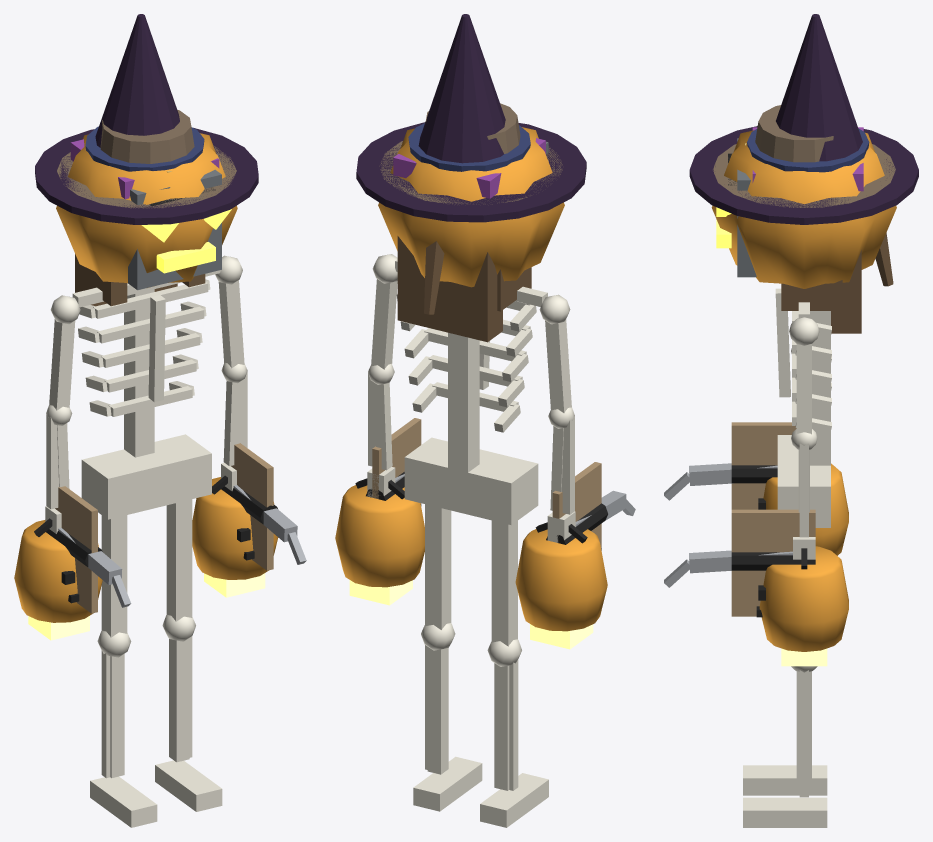
Rendered from skeleton.glb.
3 renders of one model, left to right at view 1: azimuth 30°, elevation 25°; view 2: azimuth 150°, elevation 25°; view 3: azimuth 270°, elevation 25°, orthographic. The views are drawn at different scales.
Visible parts, largest first — view 1: PumpkinHead, Ribcage, Hips, Witch_Brim, Witch_Cone, CandyBag_Pail.001, CandyBag_Pail, UpperLeg_L, LowerLeg_R, LowerLeg_L, Fedora_Crown, Torso (+24 smaller); view 2: PumpkinHead, Witch_Brim, Witch_Cone, Hips, CandyBag_Pail.001, CandyBag_Pail, LongHair, Ribcage, Torso, UpperLeg_R, UpperLeg_L, LowerLeg_R (+23 smaller); view 3: PumpkinHead, Witch_Brim, CandyBag_Pail, Witch_Cone, Clipboard, Ribcage, Clipboard.001, LongHair, Hips, Foot_L, Fedora_Brim, Fedora_Crown (+15 smaller).
Boxes of the visible parts, <box> form: PumpkinHead: <box>56,133,237,287</box>; Ribcage: <box>72,270,220,416</box>; Hips: <box>81,434,211,519</box>; Witch_Brim: <box>35,127,258,224</box>; Witch_Cone: <box>95,14,179,147</box>; CandyBag_Pail.001: <box>14,520,102,622</box>; CandyBag_Pail: <box>192,477,278,579</box>; UpperLeg_L: <box>166,499,192,621</box>; LowerLeg_R: <box>101,650,124,778</box>; LowerLeg_L: <box>169,636,192,762</box>; Fedora_Crown: <box>100,110,194,163</box>; Torso: <box>124,289,154,457</box>; PumpkinHead: <box>378,127,564,287</box>; Witch_Brim: <box>356,122,586,222</box>; Witch_Cone: <box>418,14,505,163</box>; Hips: <box>404,437,538,525</box>; CandyBag_Pail.001: <box>515,529,607,631</box>; CandyBag_Pail: <box>335,485,424,587</box>; LongHair: <box>397,236,531,342</box>; Ribcage: <box>395,259,547,432</box>; Torso: <box>448,332,479,482</box>; UpperLeg_R: <box>491,520,517,646</box>; UpperLeg_L: <box>425,504,451,629</box>; LowerLeg_R: <box>494,659,518,790</box>; PumpkinHead: <box>711,130,896,288</box>; Witch_Brim: <box>689,126,918,224</box>; CandyBag_Pail: <box>759,546,848,651</box>; Witch_Cone: <box>776,14,862,161</box>; Clipboard: <box>731,509,815,616</box>; Ribcage: <box>775,288,831,434</box>; Clipboard.001: <box>731,422,796,509</box>; LongHair: <box>781,250,861,333</box>; Hips: <box>777,435,830,527</box>; Foot_L: <box>743,797,827,827</box>; Fedora_Brim: <box>713,144,895,207</box>; Fedora_Crown: <box>755,105,833,162</box>.
Bounding box in the file's own units: 0.78 × 2.28 × 0.6671.
